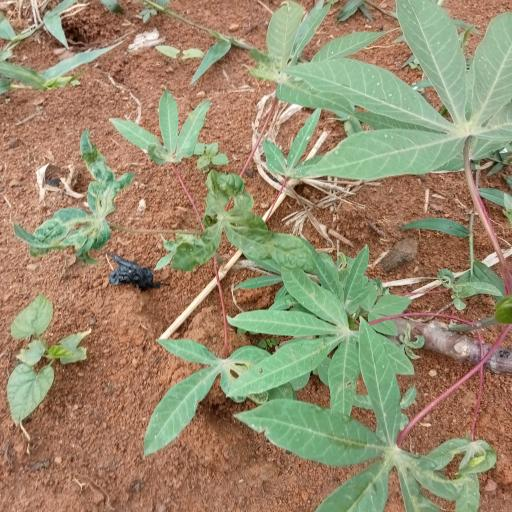Cassava_Mosaic: (298, 1, 509, 176), (246, 386, 497, 512), (235, 270, 377, 399), (156, 336, 282, 453), (22, 137, 127, 255)
